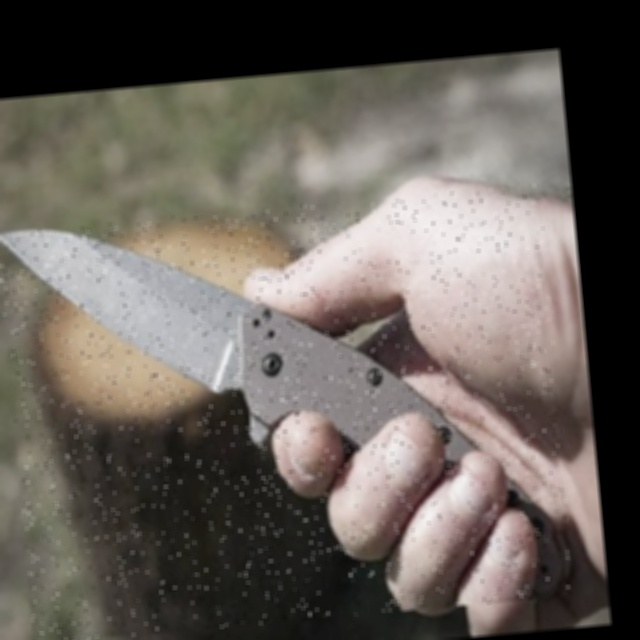Sharp-Object: (0, 184, 576, 640)
